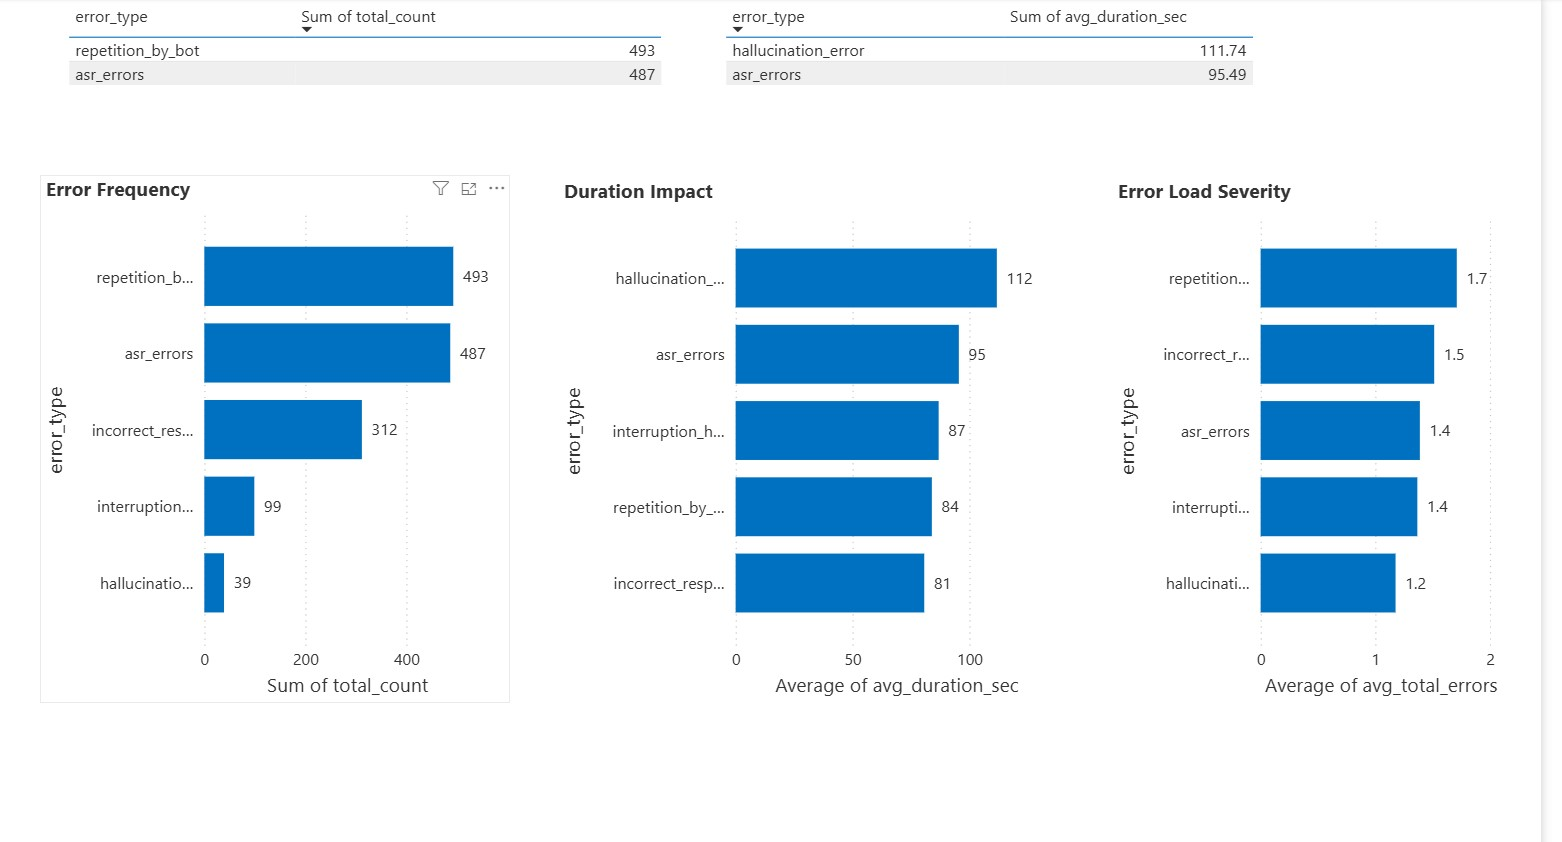

The page's visual inventory and layout, read from the dashboard file:
{"tool":"powerbi","page":{"name":"Error Analytics","canvas":[1280,720],"ordinal":1},"visuals":[{"type":"clusteredBarChart","title":"Error Frequency","fields":{"Category":["Error category.error_type"],"Y":["Sum(Error category.total_count)"]},"box":[37.2,146.3,389.3,437.1],"z":0},{"type":"clusteredBarChart","title":"Duration Impact","fields":{"Category":["error impact.error_type"],"Y":["Avg(error impact.avg_duration_sec)"]},"box":[465.5,148.1,430,435.4],"z":1000},{"type":"clusteredBarChart","title":"Error Load Severity","fields":{"Category":["error impact.error_type"],"Y":["Avg(error impact.avg_total_errors)"]},"box":[924.8,148.1,336.9,435.4],"z":2000},{"type":"tableEx","fields":{"Values":["Error category.error_type","Sum(Error category.total_count)"]},"box":[55.9,0,511.6,93.1],"z":3000},{"type":"tableEx","fields":{"Values":["error impact.error_type","Sum(error impact.avg_duration_sec)"]},"box":[599.4,0,477,93.1],"z":4000}]}

Visuals, with their boxes on the page's 1280x720 design canvas (x1, y1, x2, y2). These are canvas units, not pixel positions in the 1562x842 screenshot, which may show the page scaled, cropped or inside an application window:
"Error Frequency" clusteredBarChart: rect(37, 146, 426, 583)
"Duration Impact" clusteredBarChart: rect(466, 148, 896, 584)
"Error Load Severity" clusteredBarChart: rect(925, 148, 1262, 584)
tableEx - Error category.error_type x Sum(Error category.total_count): rect(56, 0, 568, 93)
tableEx - error impact.error_type x Sum(error impact.avg_duration_sec): rect(599, 0, 1076, 93)
